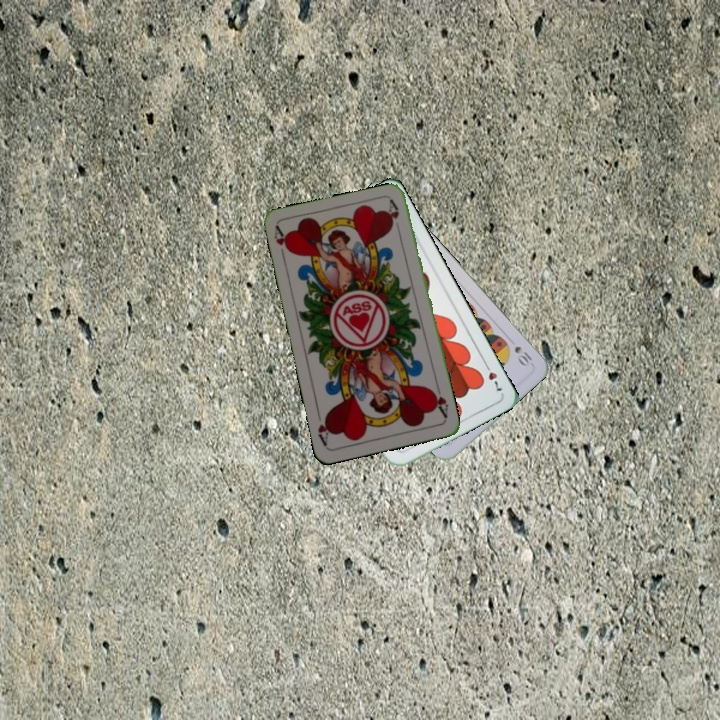H7: (480, 358, 505, 396)
HA: (270, 223, 294, 264), (427, 381, 451, 421)
S10: (510, 342, 535, 369)
